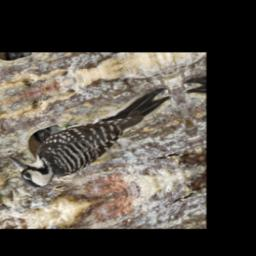Woodpecker: (1, 83, 189, 194)
